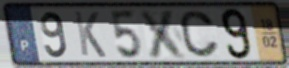5: (108, 8, 143, 60)
9: (219, 6, 254, 61), (40, 10, 68, 59)
C: (178, 9, 221, 59)
K: (72, 9, 108, 59)
X: (137, 8, 190, 61)
